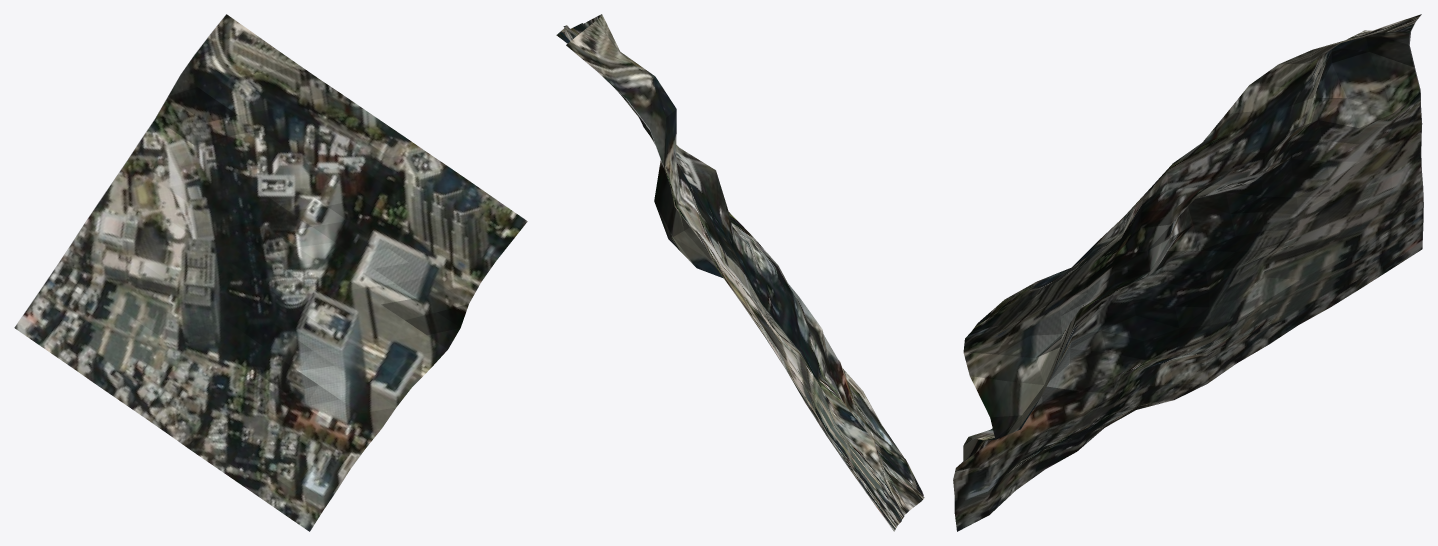
3 renders of one model, left to right at view 1: azimuth 30°, elevation 25°; view 2: azimuth 150°, elevation 25°; view 3: azimuth 270°, elevation 25°, orthographic. The views are drawn at different scales.
Size of the model in its own units: 551 by 558 by 416.
1 material, 1 textured.
